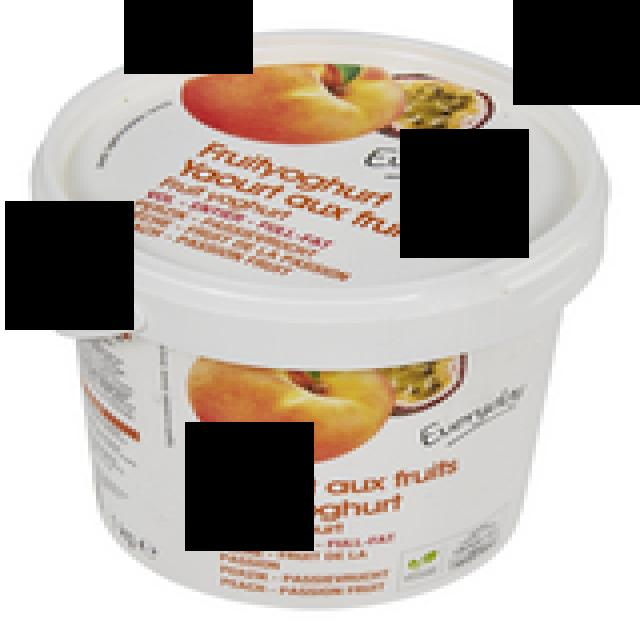yoghurt: (27, 24, 607, 605)
